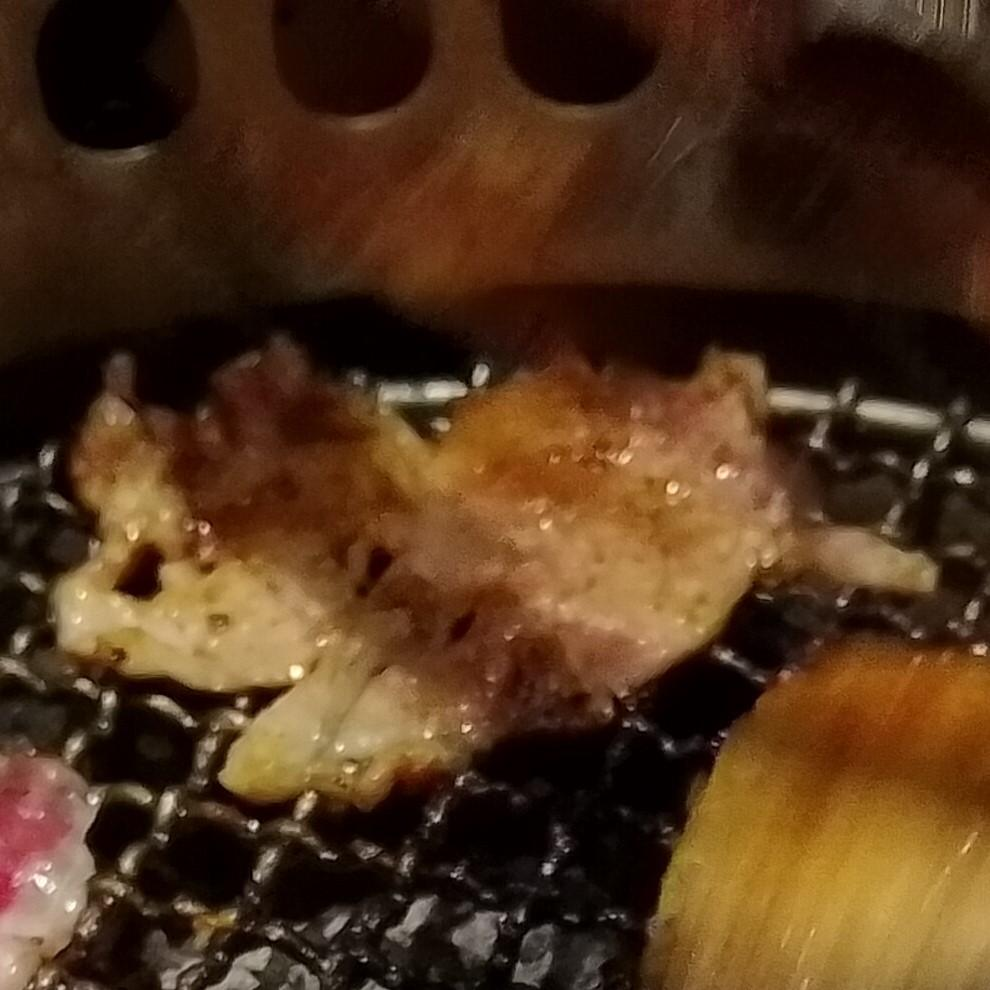Undercooked: (0, 754, 98, 989)
Well-Cooked: (56, 344, 903, 815)
